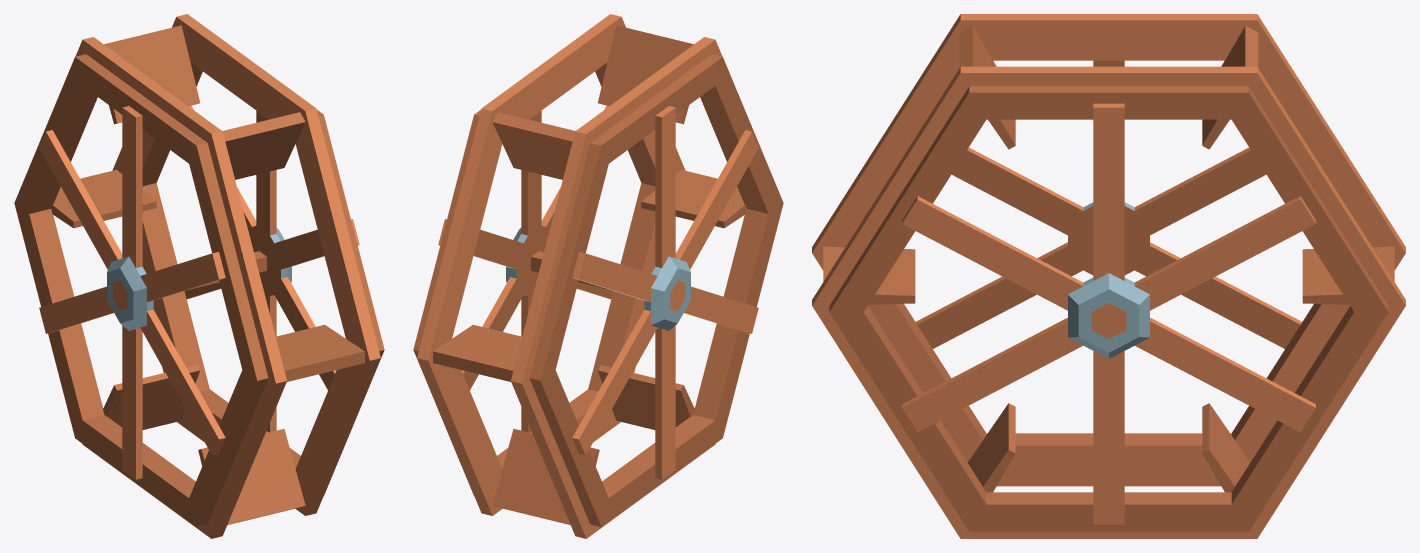
File: watermill.fbx
3 renders of one model, left to right at view 1: azimuth 30°, elevation 25°; view 2: azimuth 150°, elevation 25°; view 3: azimuth 270°, elevation 25°, orthographic. The views are drawn at different scales.
Parts seen in each view (by area): view 1: watermill, paddle (×6); view 2: watermill, paddle (×6); view 3: watermill, paddle (×6).
Part boxes in pixels (<box>): watermill: <box>14,14,384,538</box>; paddle (×6): <box>51,25,364,524</box>; watermill: <box>413,14,783,538</box>; paddle (×6): <box>433,25,746,524</box>; watermill: <box>812,14,1405,538</box>; paddle (×6): <box>823,26,1394,492</box>.
Bounding box in the file's own units: 7.1 × 17.32 × 20.
